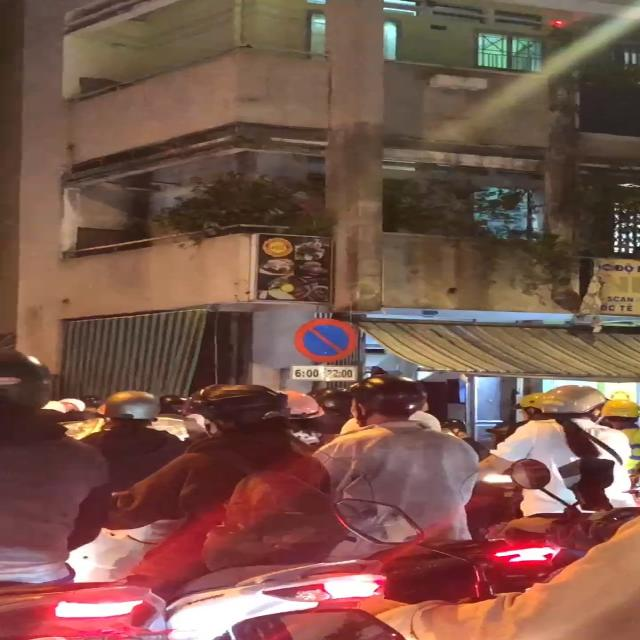Bien bao cam do xe: (289, 313, 370, 367)
